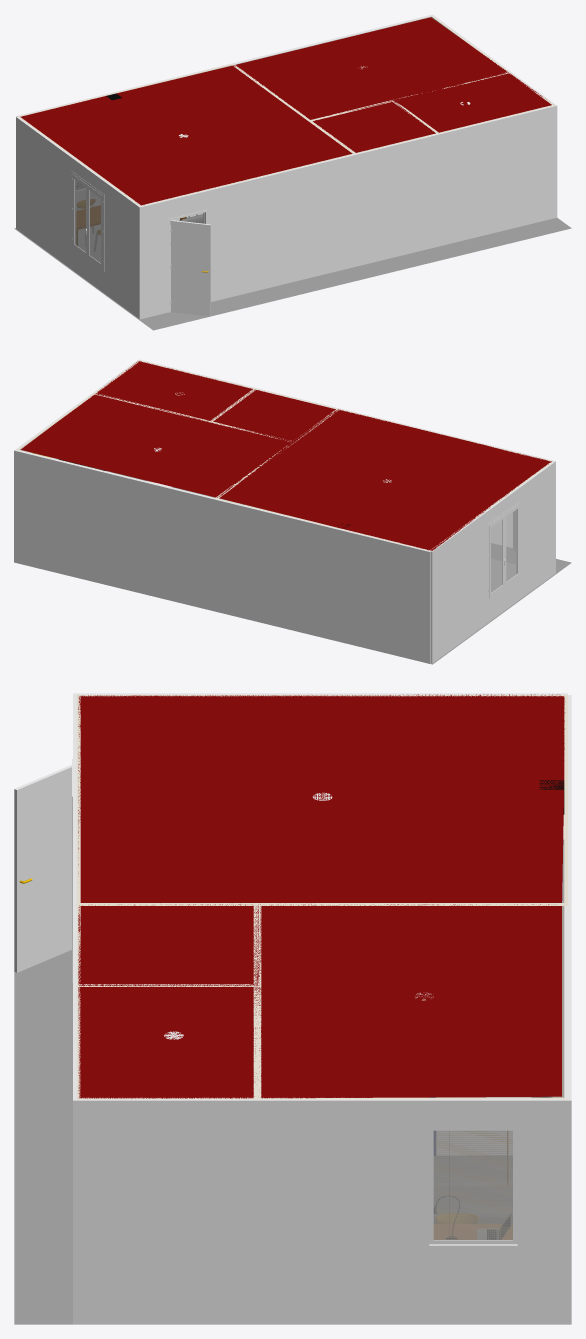
The model's file is S2_casita.obj.
3 renders of one model, top to bottom at view 1: azimuth 30°, elevation 25°; view 2: azimuth 150°, elevation 25°; view 3: azimuth 270°, elevation 25°, orthographic. The views are drawn at different scales.
Parts seen in each view (by area): view 1: room_15_87, wall_2_11, wall_11_64, wall_1_5, wall_12_70, ground_1, sweethome3d_opening_on_hinge_1_door_621, sweethome3d_window_pane_on_hinge_1_523, sweethome3d_window_pane_on_hinge_2_528, frame_517, room_15_86, sweethome3d_opening_on_hinge_1_522 (+1 smaller); view 2: room_15_87, wall_3_17, wall_4_22, wall_1_5, sweethome3d_window_pane_on_hinge_1_523, sweethome3d_window_pane_on_hinge_2_528, ground_1, sweethome3d_opening_on_hinge_1_522, sweethome3d_opening_on_hinge_2_527, room_15_86, frame_517; view 3: room_15_87, wall_9_52, wall_10_58, ground_1, sweethome3d_opening_on_hinge_1_door_621, sweethome3d_window_pane_292, 416, Fenetre_1_291, room_15_86, wall_2_12, wall_1_7, Tour_Fenetre_290 (+6 smaller).
Part boxes in pixels (x1=…): room_15_87: x1=20, y1=17, x2=551, y2=205; wall_2_11: x1=139, y1=154, x2=357, y2=319; wall_11_64: x1=439, y1=106, x2=557, y2=246; wall_1_5: x1=16, y1=117, x2=139, y2=318; wall_12_70: x1=358, y1=134, x2=439, y2=265; ground_1: x1=14, y1=217, x2=571, y2=330; sweethome3d_opening_on_hinge_1_door_621: x1=171, y1=220, x2=210, y2=316; sweethome3d_window_pane_on_hinge_1_523: x1=74, y1=179, x2=85, y2=252; sweethome3d_window_pane_on_hinge_2_528: x1=89, y1=190, x2=100, y2=263; frame_517: x1=71, y1=170, x2=104, y2=271; room_15_86: x1=78, y1=213, x2=203, y2=310; sweethome3d_opening_on_hinge_1_522: x1=72, y1=174, x2=87, y2=257; room_15_87: x1=21, y1=361, x2=551, y2=550; wall_3_17: x1=213, y1=499, x2=430, y2=663; wall_4_22: x1=14, y1=450, x2=214, y2=611; wall_1_5: x1=430, y1=461, x2=555, y2=663; sweethome3d_window_pane_on_hinge_1_523: x1=491, y1=520, x2=502, y2=592; sweethome3d_window_pane_on_hinge_2_528: x1=506, y1=509, x2=517, y2=581; ground_1: x1=430, y1=543, x2=571, y2=664; sweethome3d_opening_on_hinge_1_522: x1=489, y1=514, x2=504, y2=598; sweethome3d_opening_on_hinge_2_527: x1=505, y1=503, x2=519, y2=586; room_15_86: x1=491, y1=559, x2=515, y2=592; frame_517: x1=488, y1=500, x2=520, y2=601; room_15_87: x1=78, y1=694, x2=565, y2=1098; wall_9_52: x1=257, y1=1100, x2=571, y2=1324; wall_10_58: x1=73, y1=1100, x2=257, y2=1324; ground_1: x1=14, y1=950, x2=72, y2=1324; sweethome3d_opening_on_hinge_1_door_621: x1=14, y1=765, x2=71, y2=972; sweethome3d_window_pane_292: x1=433, y1=1130, x2=512, y2=1240; 416: x1=434, y1=1156, x2=512, y2=1223; Fenetre_1_291: x1=429, y1=1127, x2=517, y2=1244; room_15_86: x1=436, y1=1131, x2=512, y2=1155; wall_2_12: x1=76, y1=695, x2=80, y2=904; wall_1_7: x1=74, y1=693, x2=567, y2=694; Tour_Fenetre_290: x1=428, y1=1126, x2=518, y2=1246.
Size of the model in its own units: 978 by 250 by 564.
